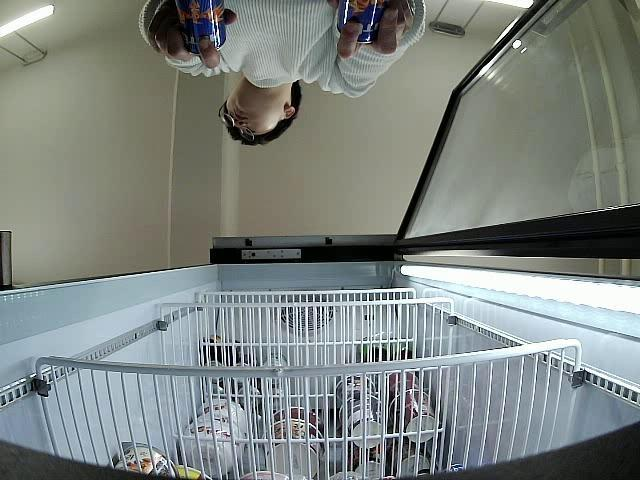16_hot6: (172, 0, 227, 56), (334, 0, 382, 47)
